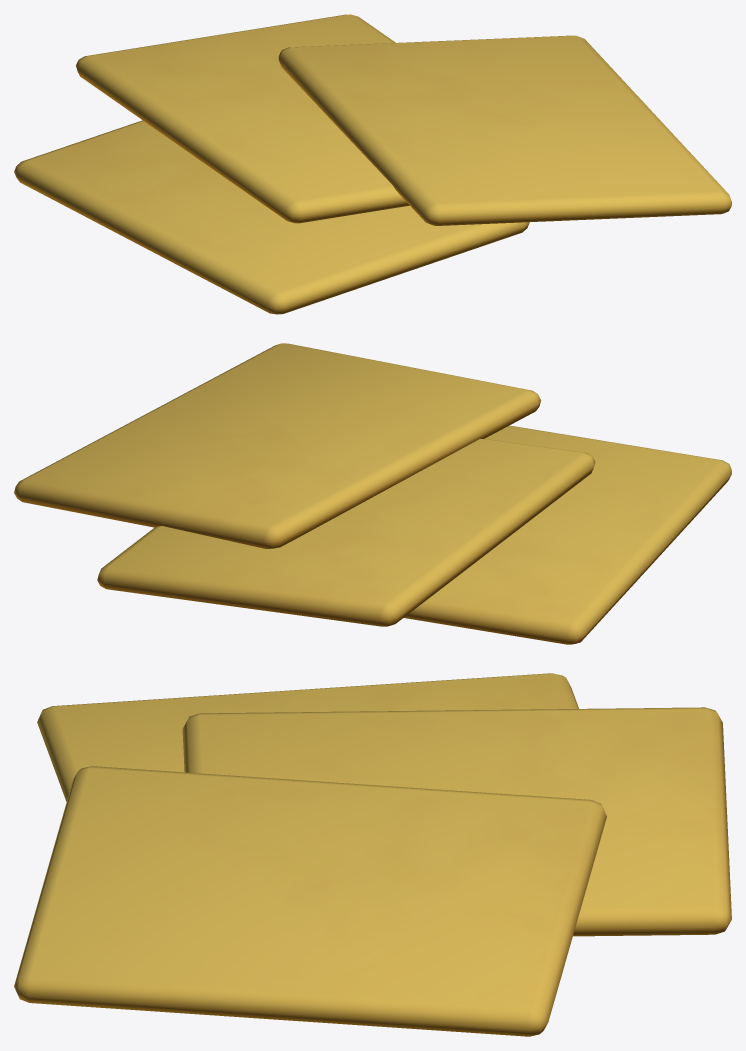
File: CheeseSlices.fbx
The picture shows the model from 3 angles, top to bottom: view 1: azimuth 30°, elevation 25°; view 2: azimuth 150°, elevation 25°; view 3: azimuth 270°, elevation 25°; orthographic projection. The views are drawn at different scales.
Parts seen in each view (by area): view 1: CheeseSlices; view 2: CheeseSlices; view 3: CheeseSlices.
Part boxes in pixels (x1,y1,x2,y2): CheeseSlices: [14, 14, 731, 314]; CheeseSlices: [14, 343, 731, 644]; CheeseSlices: [14, 673, 731, 1036].
Bounding box in the file's own units: 47.67 × 4.77 × 41.52.
